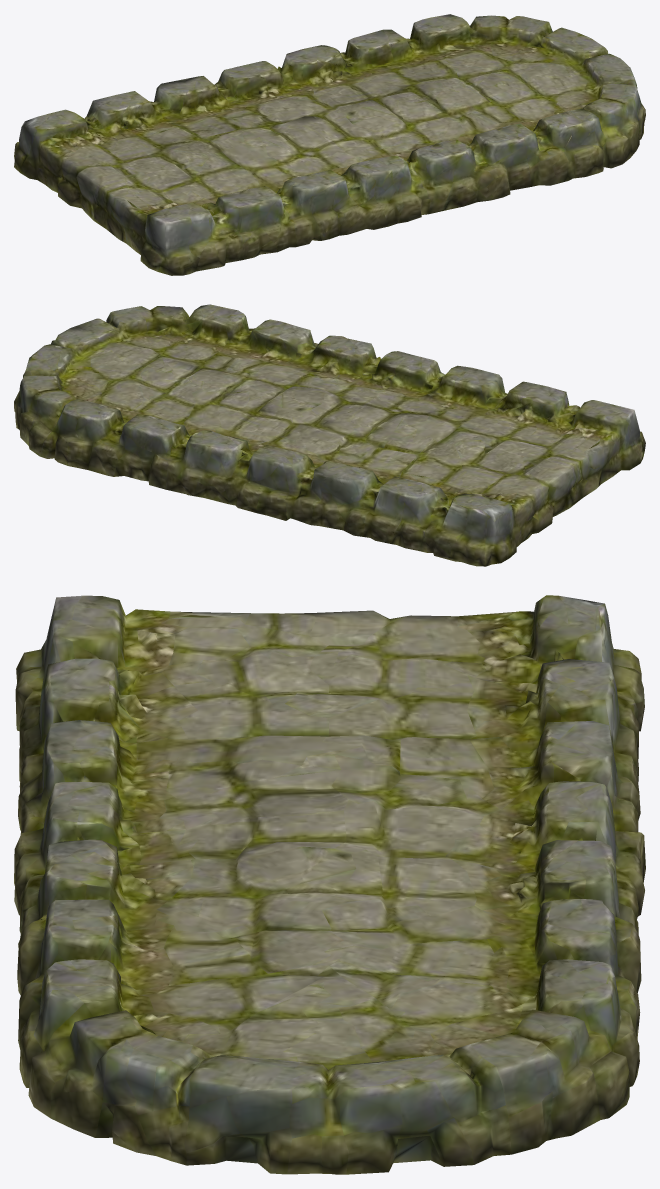
File: road-end.glb
The picture shows the model from 3 angles, top to bottom: view 1: azimuth 30°, elevation 25°; view 2: azimuth 150°, elevation 25°; view 3: azimuth 270°, elevation 25°; orthographic projection. The views are drawn at different scales.
Bounding box in the file's own units: 1.91 × 0.1623 × 1.02.
1 material, 1 textured.
